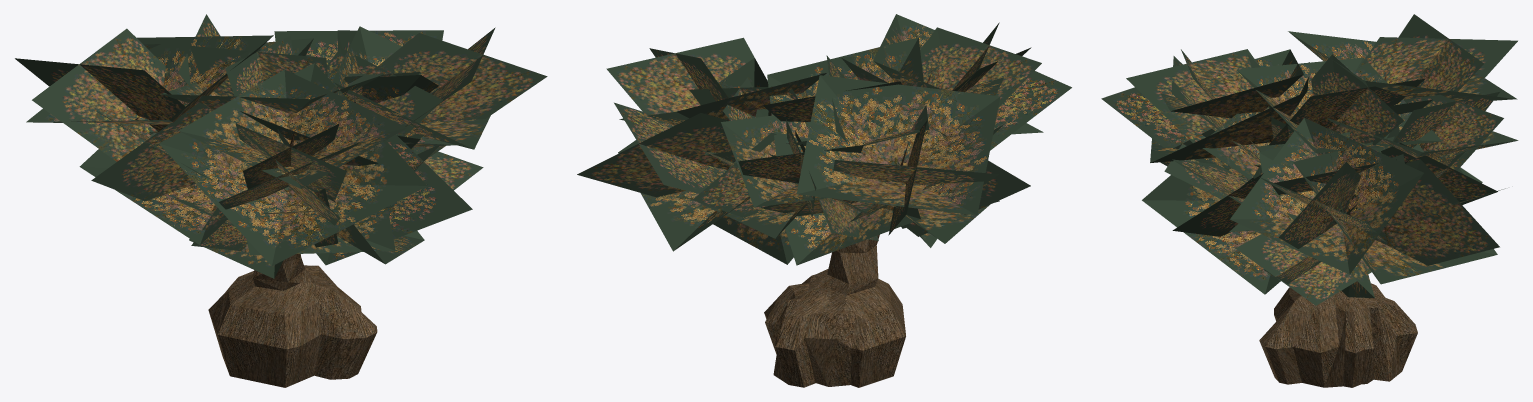
The model's file is decd_oaktreeleaves_a2_l0.fbx.
3 views of the same model, side by side, from view 1: azimuth 30°, elevation 25°; view 2: azimuth 150°, elevation 25°; view 3: azimuth 270°, elevation 25° (orthographic). The views are drawn at different scales.
Parts seen in each view (by area): view 1: mesh_node; view 2: mesh_node; view 3: mesh_node.
Part boxes in pixels (x1,y1,x2,y2): mesh_node: [15, 14, 547, 387]; mesh_node: [577, 14, 1071, 387]; mesh_node: [1101, 14, 1518, 387].
Bounding box in the file's own units: 20.89 × 14.17 × 18.78.
Materials: 3 (3 with a texture image).
